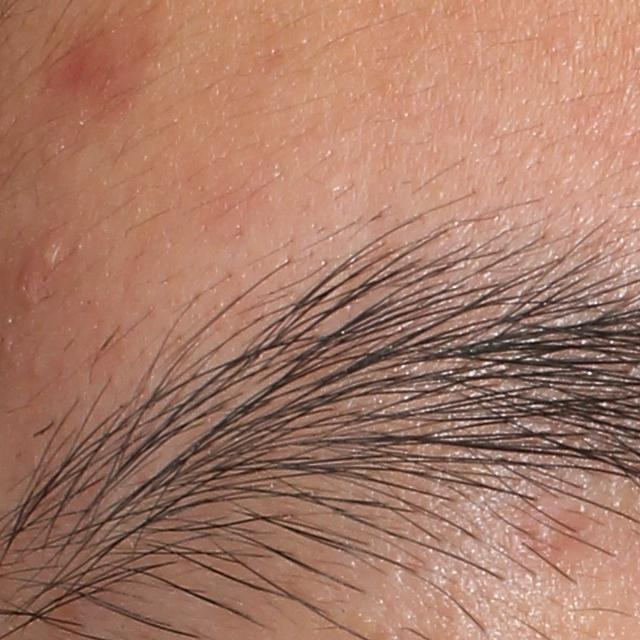papule: (527, 504, 589, 560)
